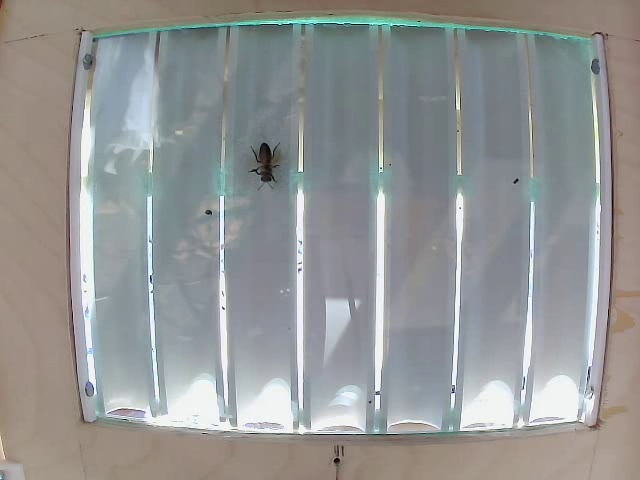bee: (244, 141, 289, 196)
